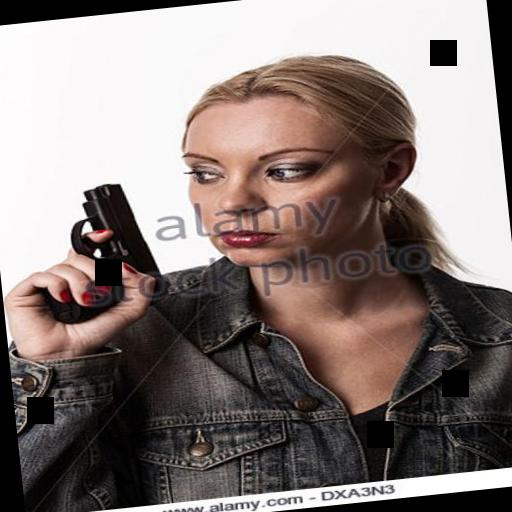Handgun: (28, 175, 170, 327)
